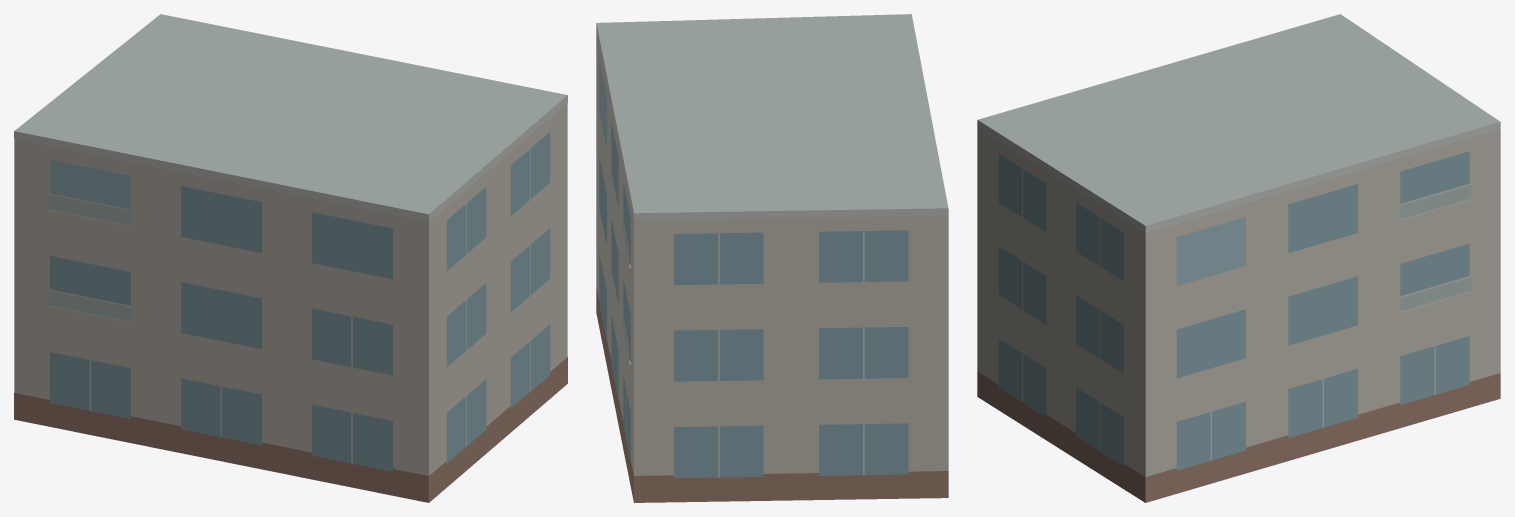
File: survey-upis-32806393.glb
The picture shows the model from 3 angles, left to right: view 1: azimuth 30°, elevation 25°; view 2: azimuth 150°, elevation 25°; view 3: azimuth 270°, elevation 25°; orthographic projection. The views are drawn at different scales.
Parts seen in each view (by area): view 1: survey-upis-32806393.tmp; view 2: survey-upis-32806393.tmp; view 3: survey-upis-32806393.tmp.
Part boxes in pixels (left/top/right/bottom): survey-upis-32806393.tmp: left=14, top=14, right=567, bottom=502; survey-upis-32806393.tmp: left=596, top=14, right=948, bottom=502; survey-upis-32806393.tmp: left=977, top=14, right=1500, bottom=502.
Bounding box in the file's own units: 15.02 × 9.15 × 15.67.
